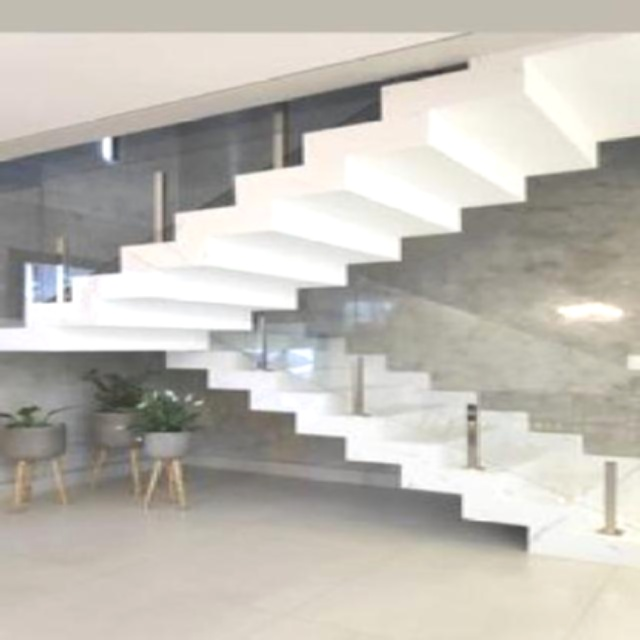stair: (145, 274, 639, 588)
